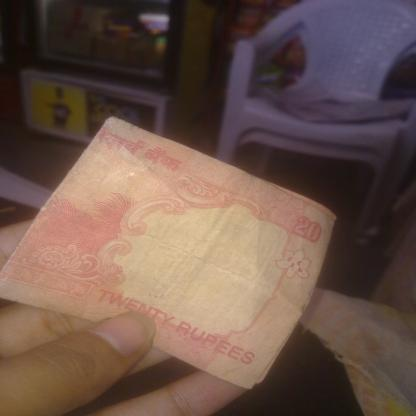Old20Back: (19, 125, 340, 379)
